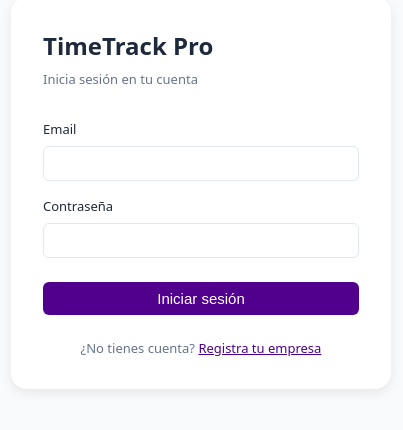
Test: Login › muestra un mensaje de error si las credenciales son incorrectas
Type "ruben@miempresa.com" into the field labelled "Email" at (201, 164), box [43,146,359,181]
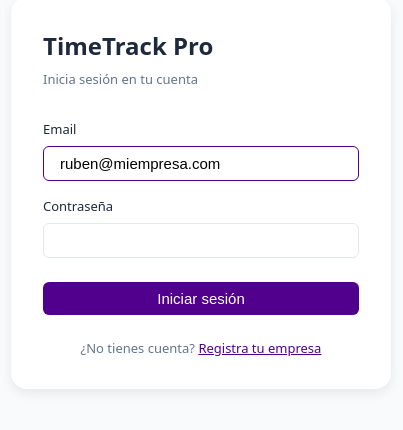
Type "mal" into the password field labelled "Contraseña" at (201, 240), box [43,223,359,258]
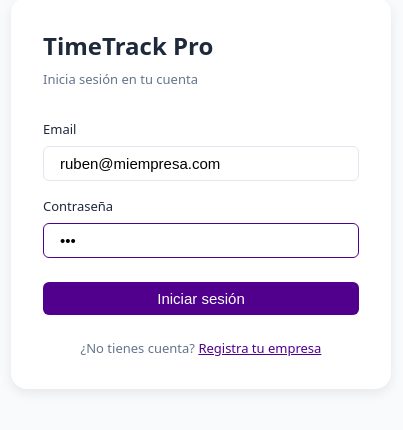
Click the button "Iniciar sesión" at (201, 298), box [43,282,359,315]
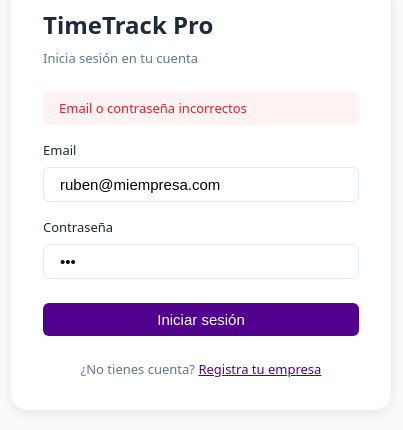
Now the message reads "Email o contraseña incorrectos", box [59,99,247,117]
